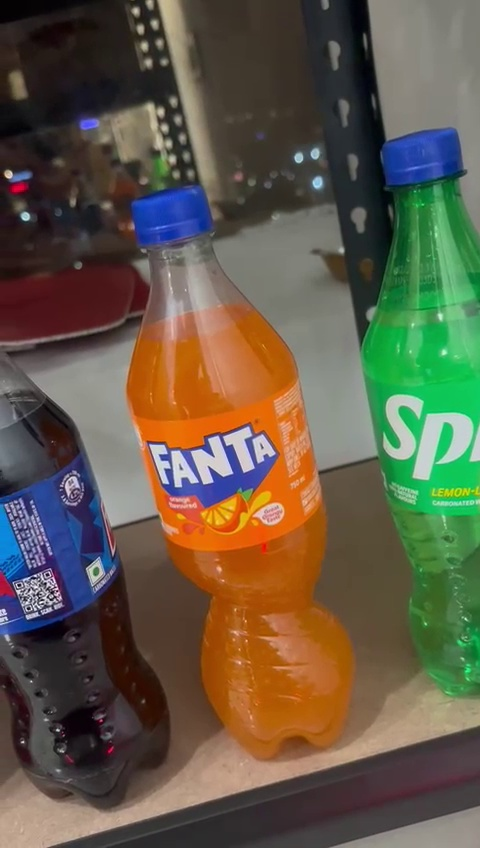Fanta: (118, 165, 358, 764)
